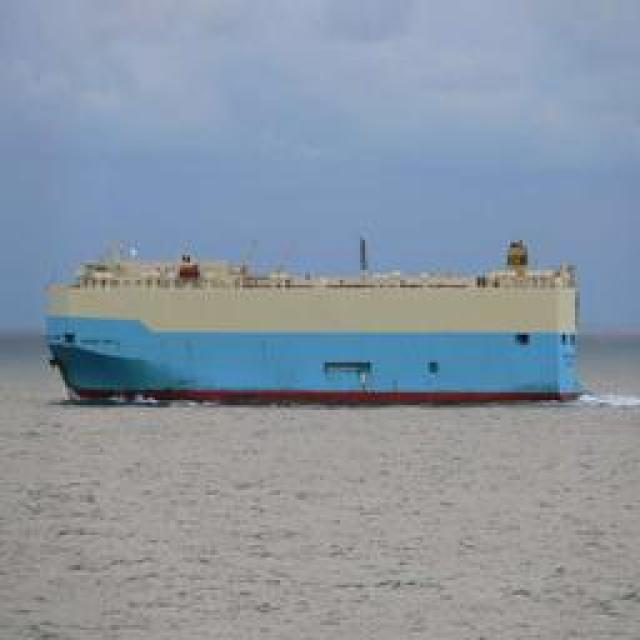CIV_Ship: (48, 236, 580, 406)
